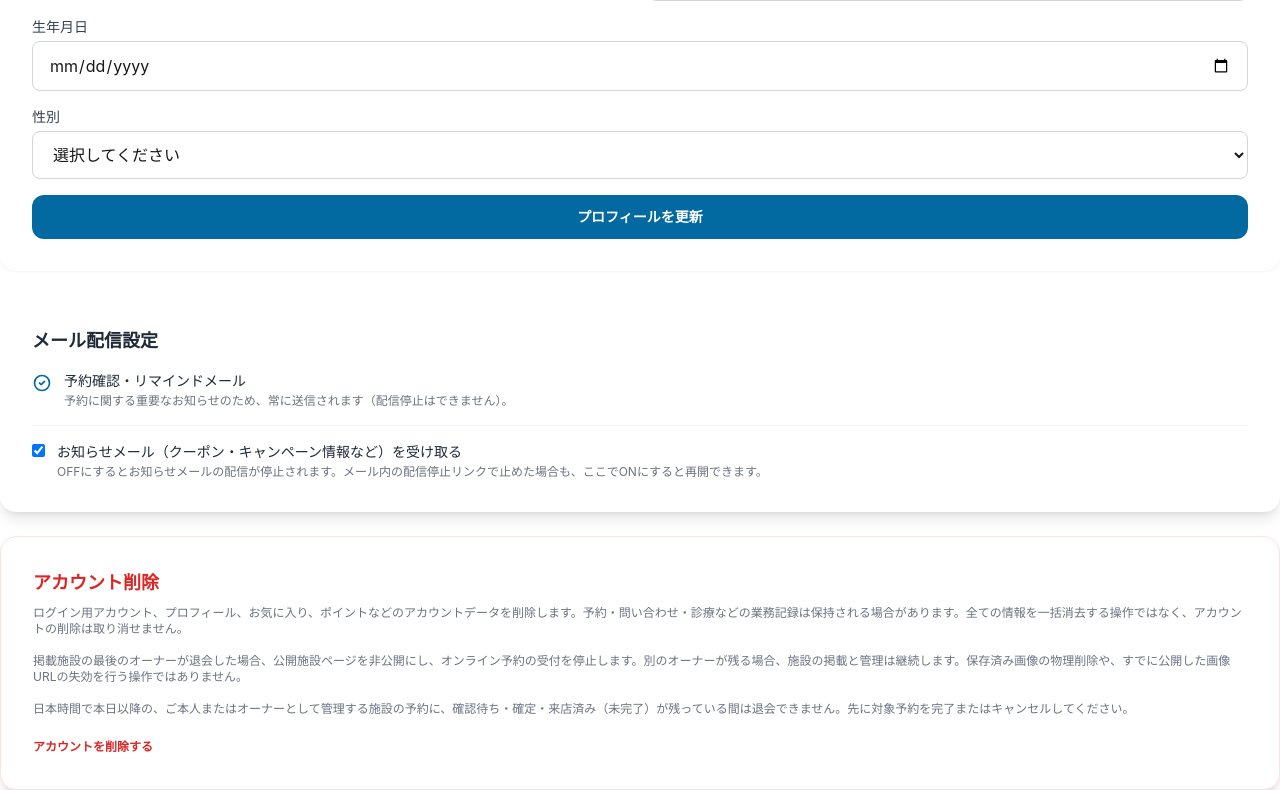
Test: profile cleanup failure visibly blocks the irreversible account HTTP
(page scrolled)
Click the button "アカウントを削除する" at (93, 747), box x1=33 y1=739 x2=153 y2=755
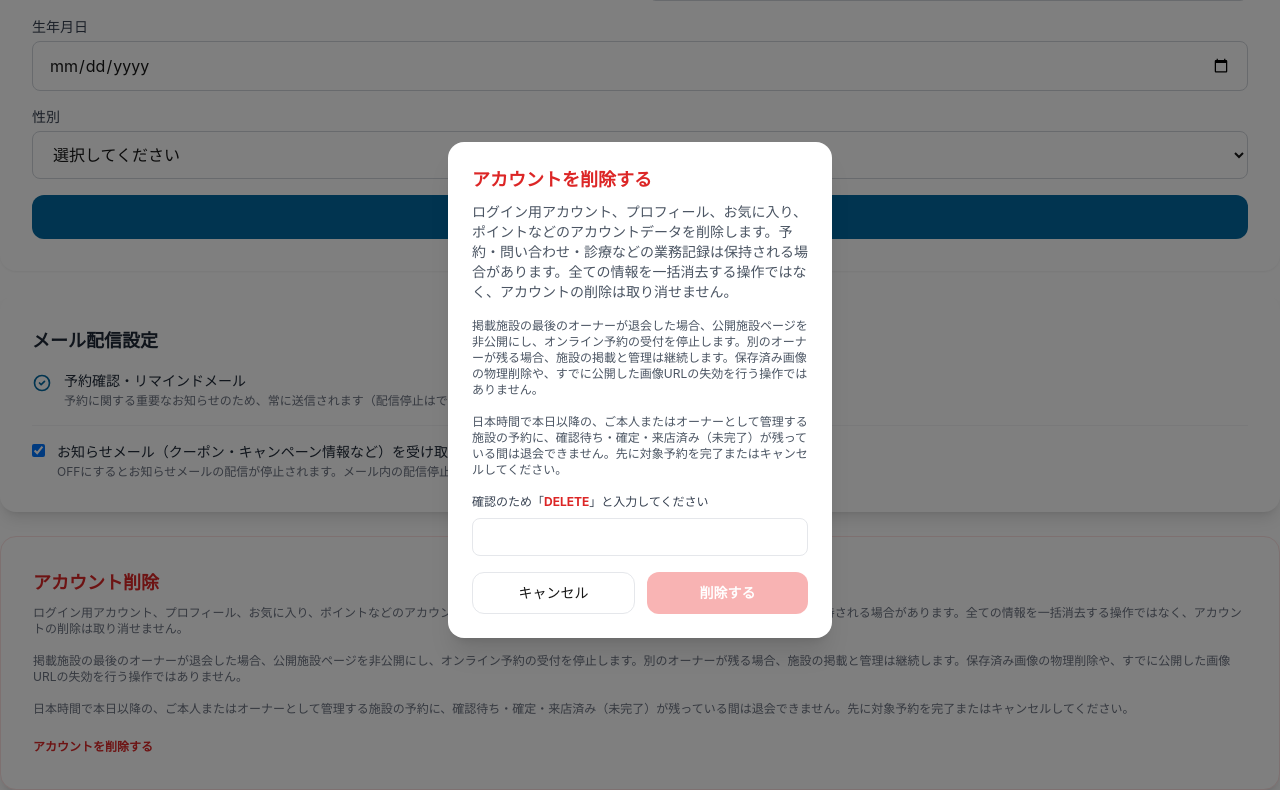
Type "DELETE" into the field named "確認コード DELETE を入力" at (640, 537), box x1=472 y1=518 x2=808 y2=556
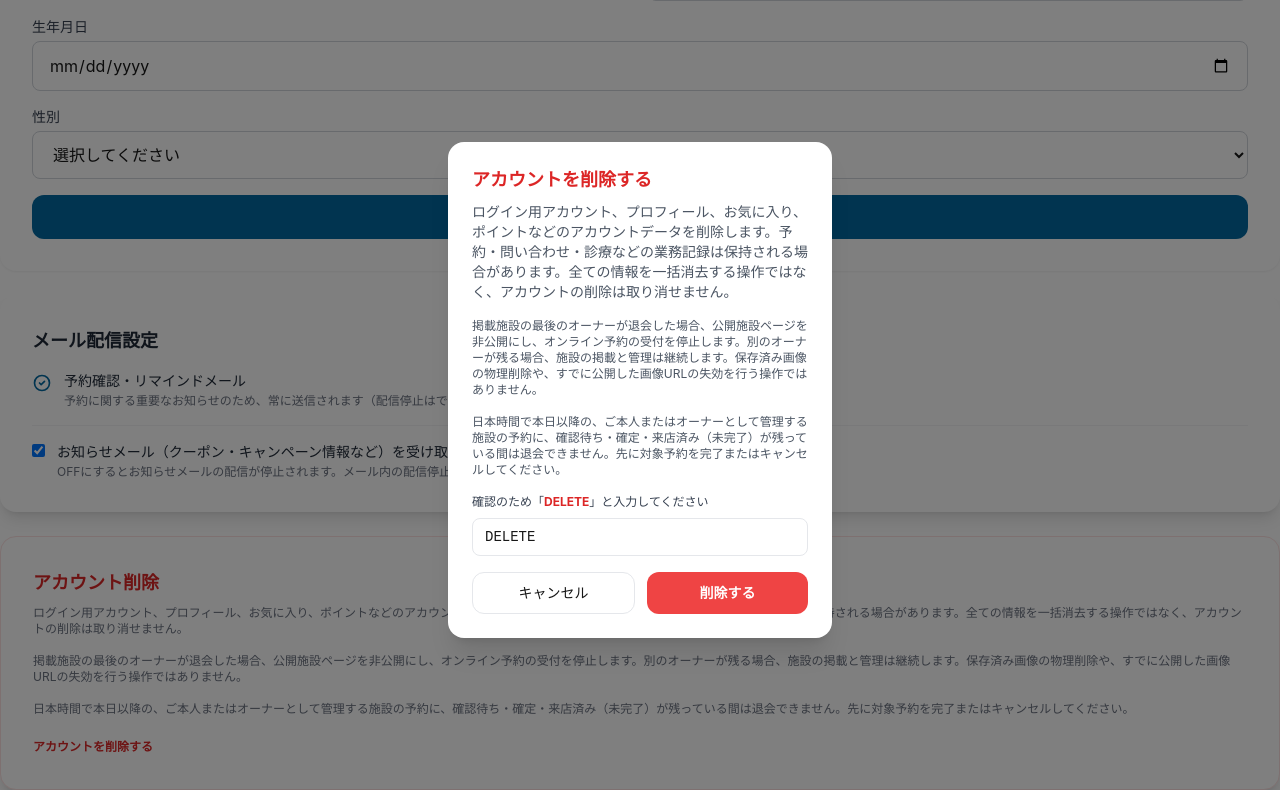
Click the button "削除する" at (728, 593), box x1=647 y1=572 x2=808 y2=614
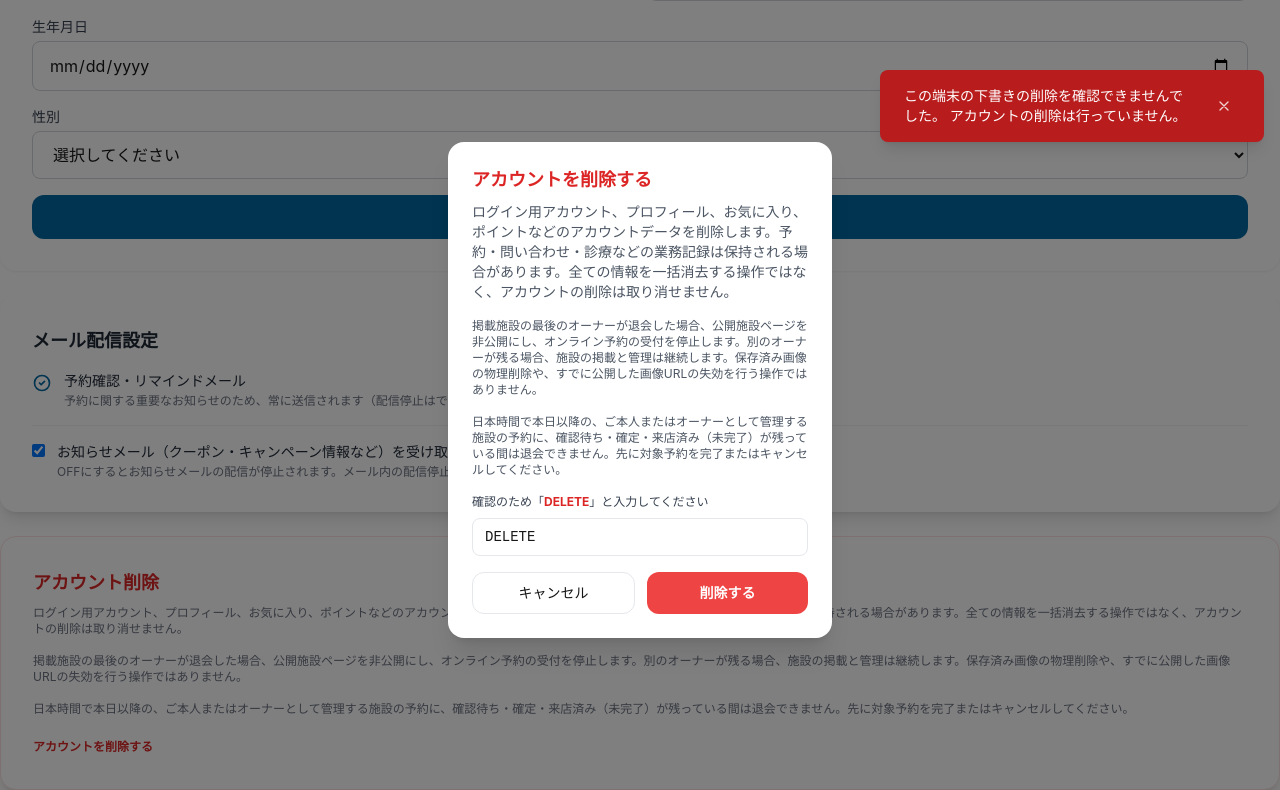
Expected: the message shows "アカウントの削除は行っていません", x1=904 y1=87 x2=1187 y2=124
